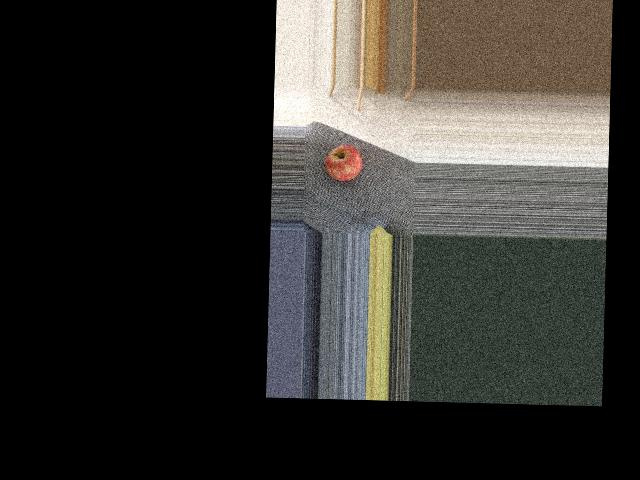apple: (322, 142, 363, 184)
